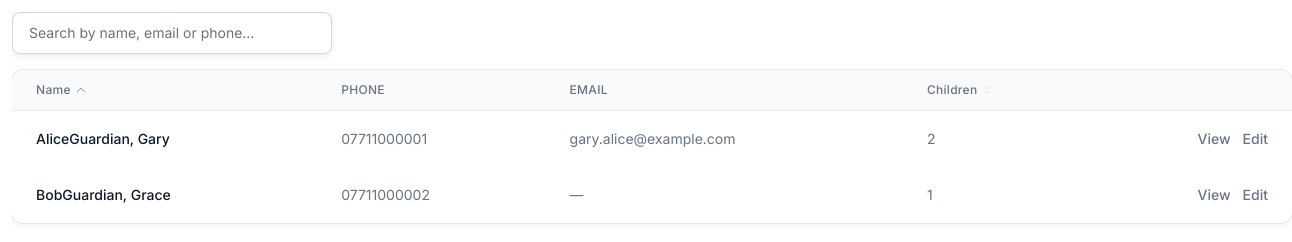
Test case: GuardiansTable › filters by first name
Type "gary" into the search field with placeholder "Search by name, email or phone…".
click(172, 33); type("gary")  # box [12, 12, 332, 54]
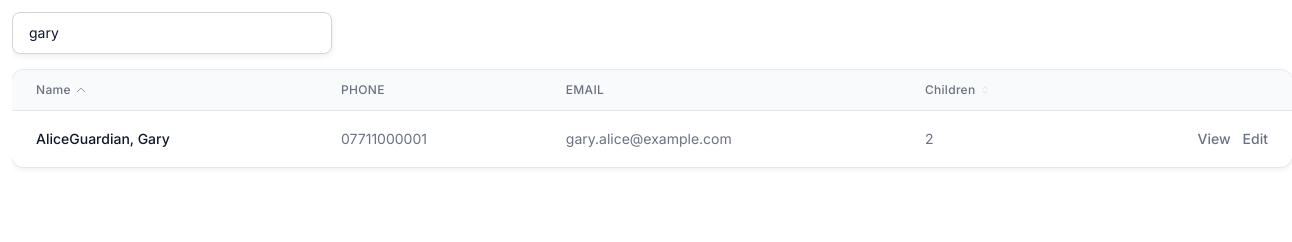
Check: the text "BobGuardian, Grace" is gone
